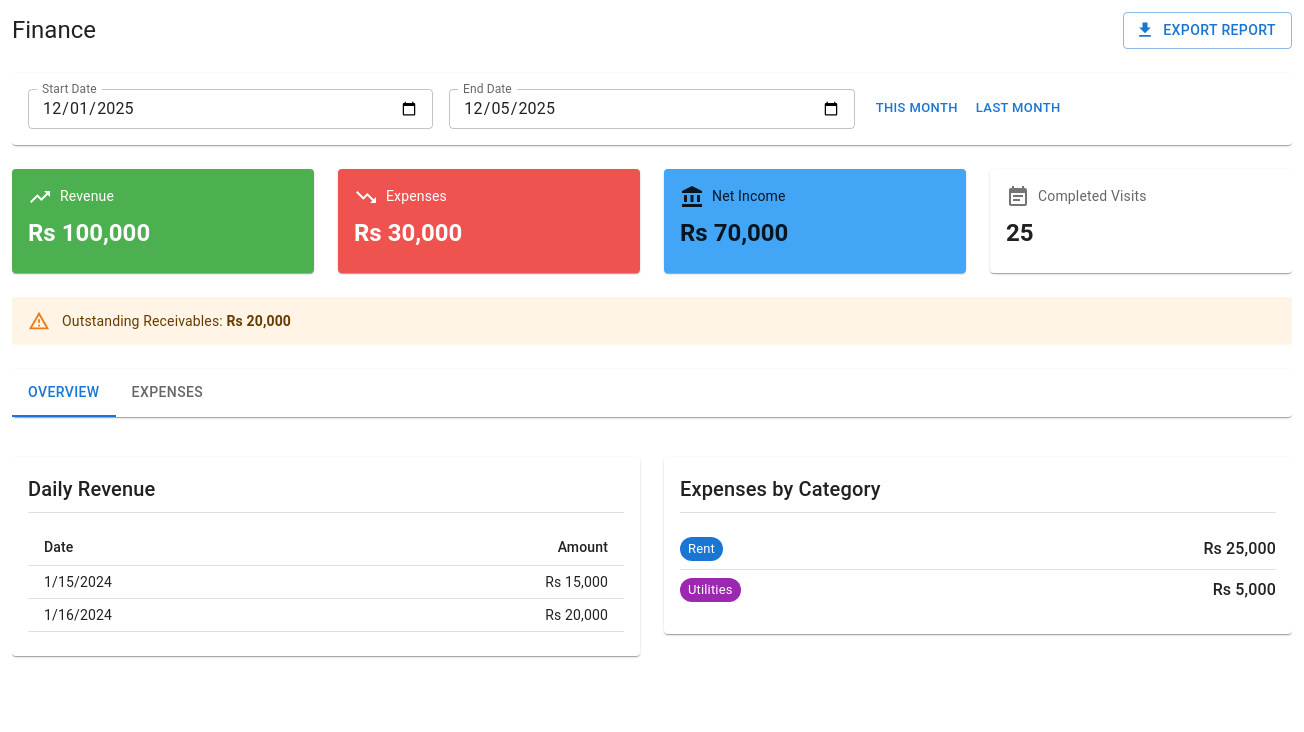
Test: Expense Workflow Integration Tests › Expense CRUD Operations › should display expenses in a table
Click the tab "Expenses" at {"x": 167, "y": 392}, box [116,368,219,416]
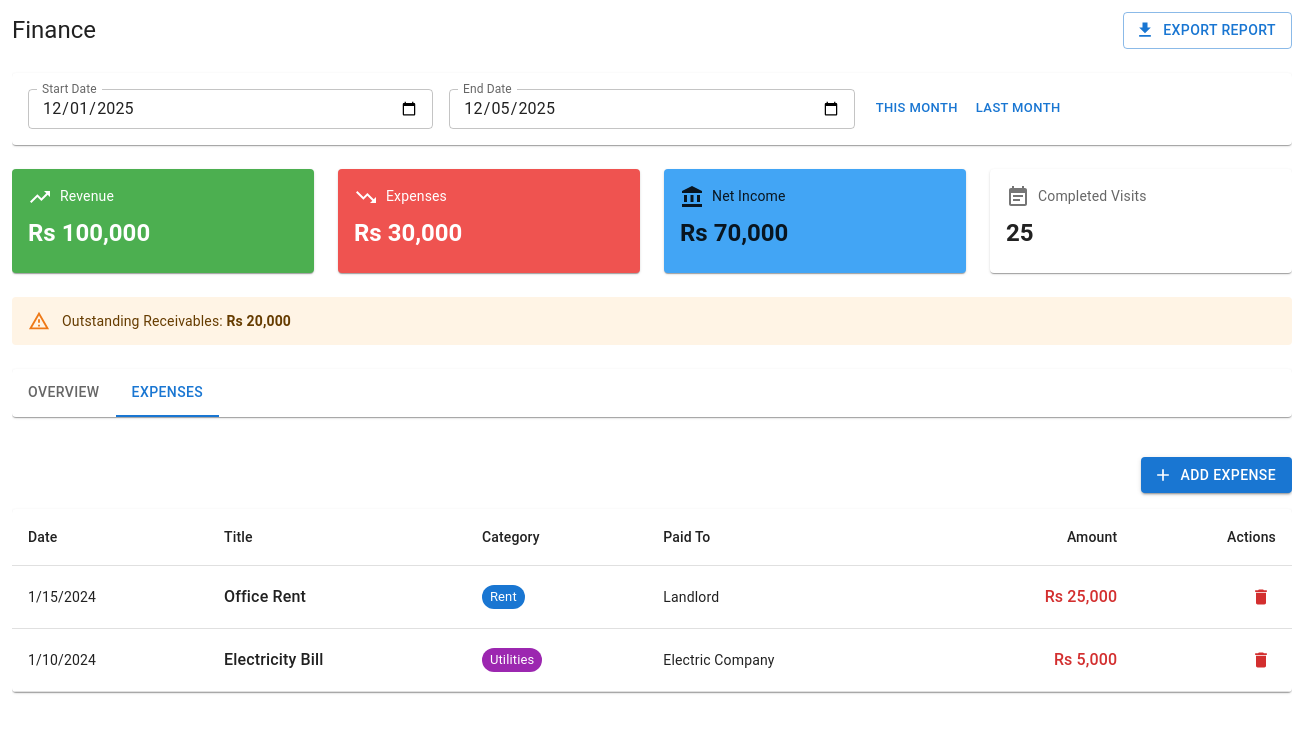
Expected: the text "Office Rent" is shown, [224,587,306,606]
Expected: the text "Electricity Bill" is shown, [224,650,324,669]
Expected: the text "Landlord" is shown, [647,566,928,628]
